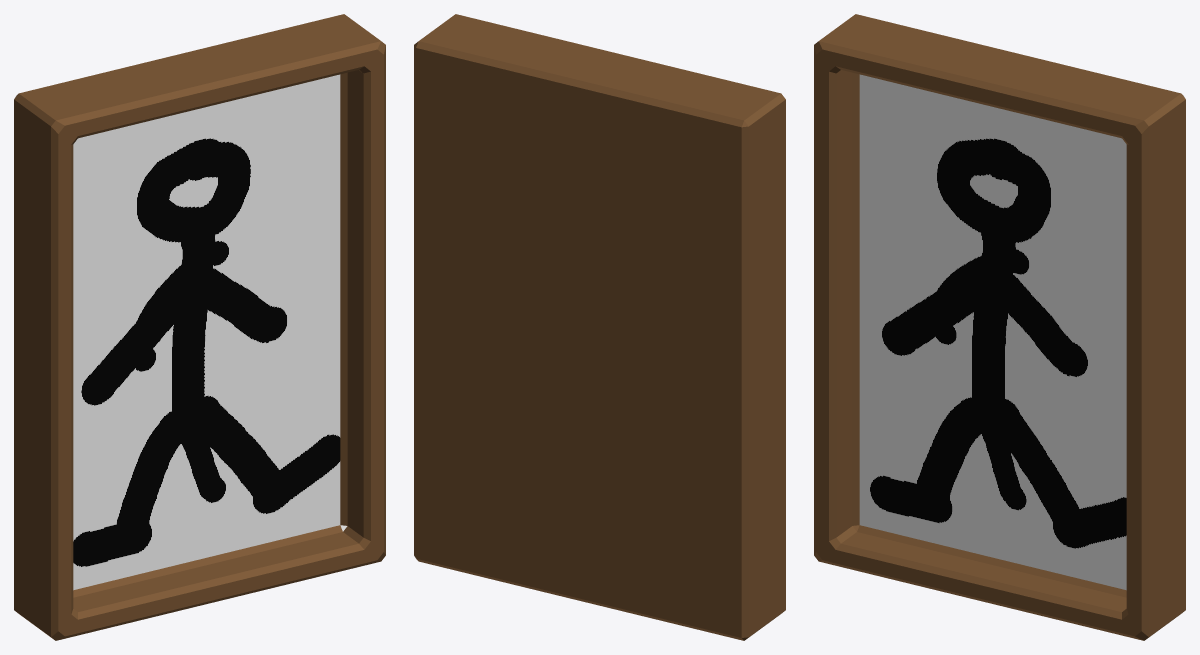
Rendered from Painting1.fbx.
3 views of the same model, side by side, from view 1: azimuth 30°, elevation 25°; view 2: azimuth 150°, elevation 25°; view 3: azimuth 330°, elevation 25° (orthographic).
Parts seen in each view (by area): view 1: Cube.001; view 2: Cube.001; view 3: Cube.001.
Part boxes in pixels (bbox=[...]): Cube.001: bbox=[14, 14, 385, 640]; Cube.001: bbox=[414, 14, 785, 640]; Cube.001: bbox=[814, 14, 1185, 640].
Bounding box in the file's own units: 480 × 713 × 105.
